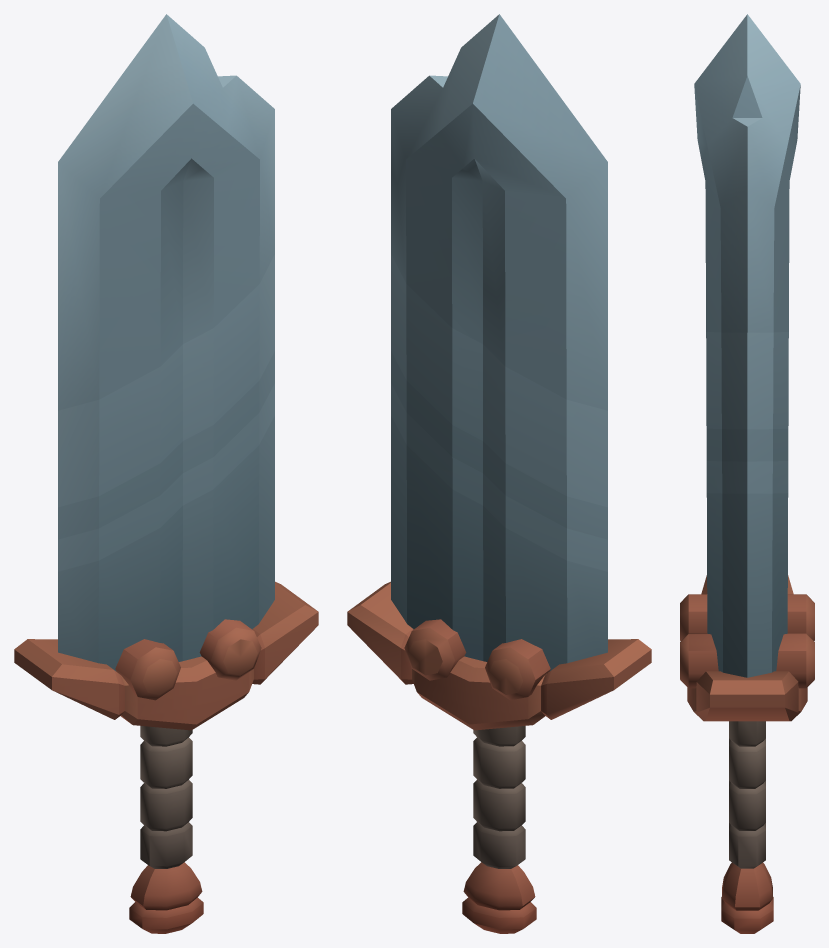
Rendered from kk_mystery5_blackknight_sword_large.glb.
The picture shows the model from 3 angles, left to right: view 1: azimuth 30°, elevation 25°; view 2: azimuth 150°, elevation 25°; view 3: azimuth 270°, elevation 25°; orthographic projection.
Visible parts, largest first — view 1: BlackKnight_Sword_Large; view 2: BlackKnight_Sword_Large; view 3: BlackKnight_Sword_Large.
Part boxes in pixels (x1=…): BlackKnight_Sword_Large: x1=14, y1=14, x2=318, y2=933; BlackKnight_Sword_Large: x1=347, y1=14, x2=651, y2=933; BlackKnight_Sword_Large: x1=680, y1=14, x2=814, y2=933.
Size of the model in its own units: 1.26 by 4.12 by 0.5524.
1 material, 1 textured.
